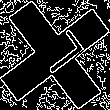L_SW: (25, 27, 85, 83)
